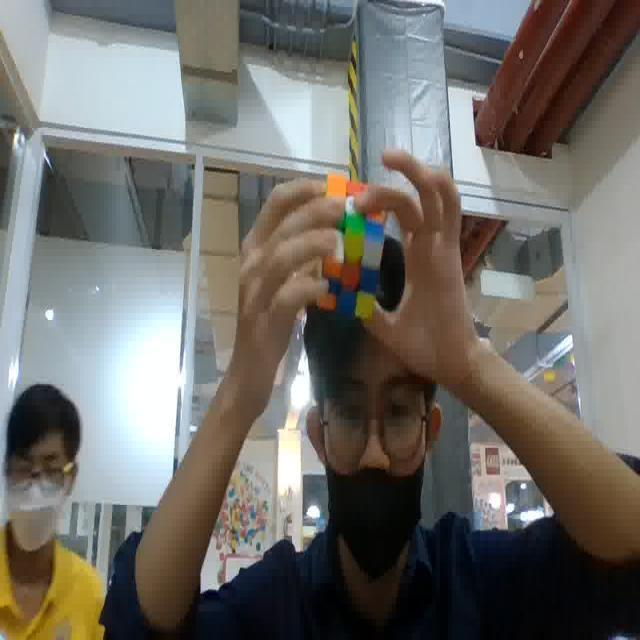Rub: (315, 176, 386, 322)
